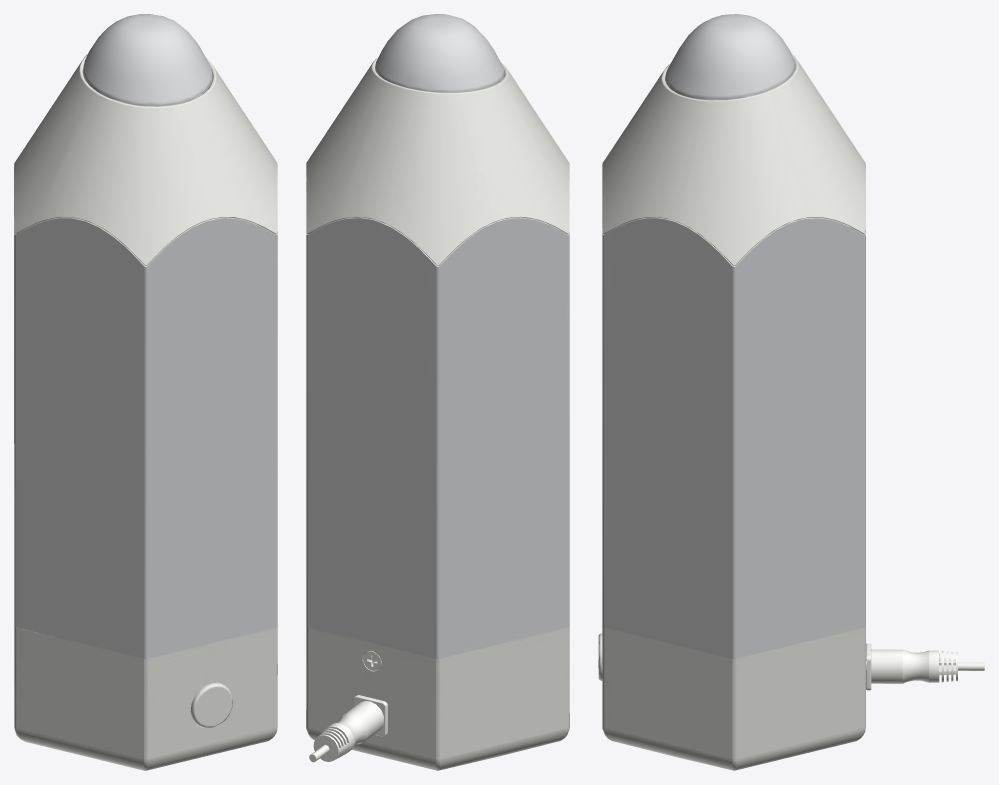
Rendered from pelarboj_lampa_stoowa_led_20401515.glb.
3 renders of one model, left to right at view 1: azimuth 30°, elevation 25°; view 2: azimuth 150°, elevation 25°; view 3: azimuth 270°, elevation 25°, orthographic.
Visible parts, largest first — view 1: pelarboj_lampa_stoowa_led_20401515; view 2: pelarboj_lampa_stoowa_led_20401515; view 3: pelarboj_lampa_stoowa_led_20401515.
Boxes of the visible parts, <box> form: pelarboj_lampa_stoowa_led_20401515: <box>14,14,277,770</box>; pelarboj_lampa_stoowa_led_20401515: <box>306,14,569,770</box>; pelarboj_lampa_stoowa_led_20401515: <box>598,14,984,770</box>.
Size of the model in its own units: 0.1152 by 0.2901 by 0.1466.
1 material, 1 textured.
